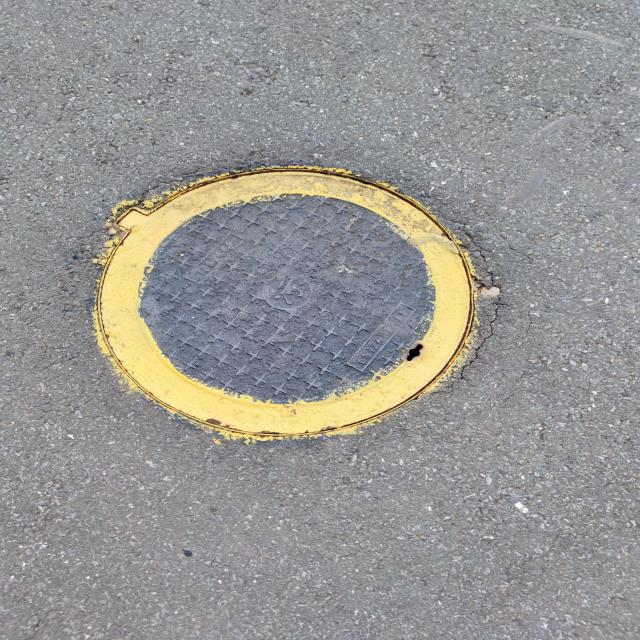Good: (96, 166, 490, 444)
